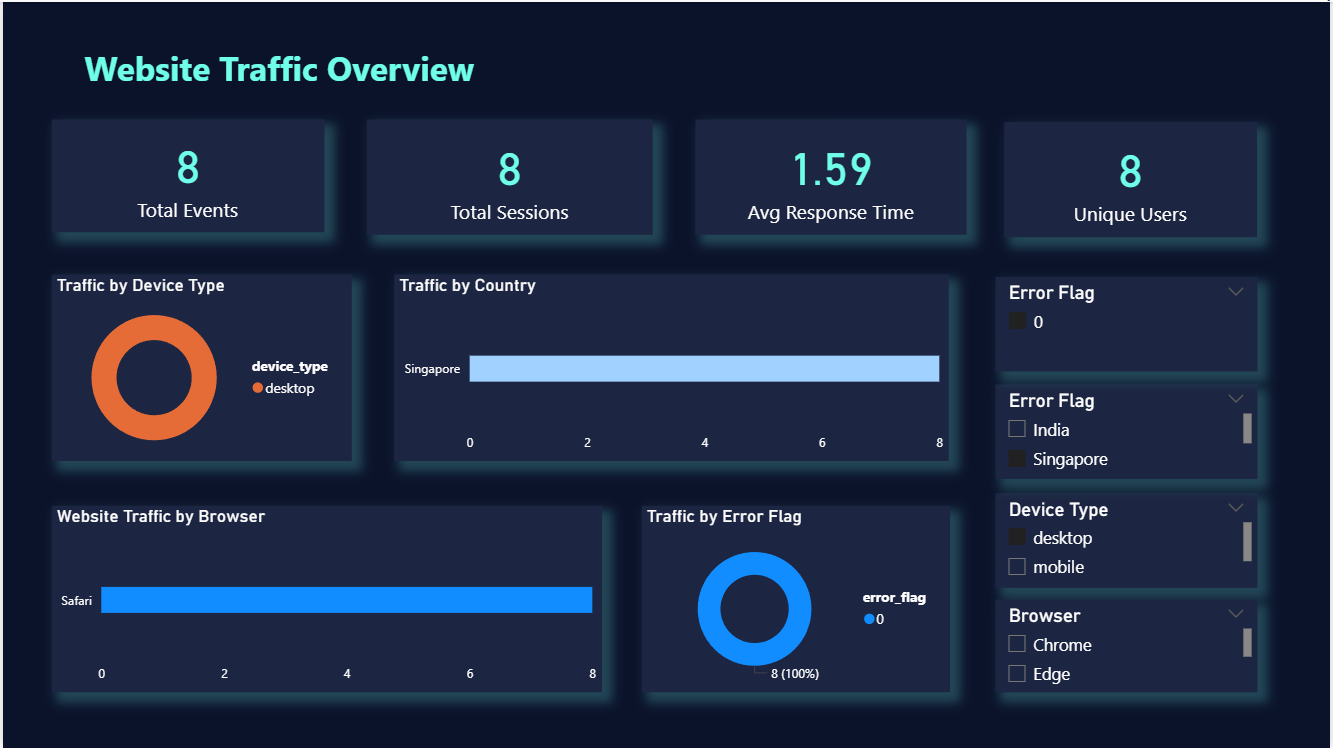

Layout of this report page (visuals, bound fields, positions):
{"tool":"powerbi","page":{"name":"Traffic  Overview","canvas":[1280,720],"ordinal":0},"visuals":[{"type":"card","fields":{"Values":["cleaned_logs.Total Events"]},"box":[47.1,113.2,263,108.6],"z":0},{"type":"card","fields":{"Values":["cleaned_logs.Unique Users"]},"box":[966.4,115.4,243.7,111],"z":1000},{"type":"card","fields":{"Values":["cleaned_logs.Total Sessions"]},"box":[351.1,113,276.3,111],"z":2000},{"type":"card","fields":{"Values":["cleaned_logs.Avg Response Time"]},"box":[668.4,113.2,261.8,111],"z":3000},{"type":"donutChart","title":"Traffic by Device Type","fields":{"Category":["cleaned_logs.device_type"],"Y":["CountNonNull(cleaned_logs.log_id)"]},"box":[47.6,263,290,180.3],"z":4000},{"type":"clusteredBarChart","title":"Website Traffic by Browser","fields":{"Category":["cleaned_logs.browser"],"Y":["CountNonNull(cleaned_logs.log_id)"]},"box":[47.6,485.7,530.9,180.3],"z":5000},{"type":"clusteredBarChart","title":"Traffic by Country","fields":{"Category":["cleaned_logs.country"],"Y":["CountNonNull(cleaned_logs.log_id)"]},"box":[378,263,535.3,180.3],"z":6000},{"type":"slicer","fields":{"Values":["cleaned_logs.device_type"]},"box":[958,474.2,252.5,90.9],"z":7000},{"type":"slicer","fields":{"Values":["cleaned_logs.browser"]},"box":[958,576.6,252.5,89.5],"z":8000},{"type":"slicer","fields":{"Values":["cleaned_logs.country"]},"box":[958,368.8,252.5,90.9],"z":9000},{"type":"donutChart","title":"Traffic by Error Flag","fields":{"Category":["cleaned_logs.error_flag"],"Y":["CountNonNull(cleaned_logs.log_id)"]},"box":[616.1,485.7,297.2,180.3],"z":10000},{"type":"slicer","fields":{"Values":["cleaned_logs.error_flag"]},"box":[958,265,252.5,90.9],"z":11000},{"type":"textbox","box":[73.6,37.5,447.3,64.9],"z":12000}]}

Visuals, with their boxes in screenshot pixels (x1, y1, x2, y2), scaled from the page's 1280x720 canvas onto the 1333x748 screenshot:
card - cleaned_logs.Total Events: bbox=(49, 118, 323, 230)
card - cleaned_logs.Unique Users: bbox=(1006, 120, 1260, 235)
card - cleaned_logs.Total Sessions: bbox=(366, 117, 653, 233)
card - cleaned_logs.Avg Response Time: bbox=(696, 118, 969, 233)
"Traffic by Device Type" donutChart: bbox=(50, 273, 352, 461)
"Website Traffic by Browser" clusteredBarChart: bbox=(50, 505, 602, 692)
"Traffic by Country" clusteredBarChart: bbox=(394, 273, 951, 461)
slicer - cleaned_logs.device_type: bbox=(998, 493, 1261, 587)
slicer - cleaned_logs.browser: bbox=(998, 599, 1261, 692)
slicer - cleaned_logs.country: bbox=(998, 383, 1261, 478)
"Traffic by Error Flag" donutChart: bbox=(642, 505, 951, 692)
slicer - cleaned_logs.error_flag: bbox=(998, 275, 1261, 370)
textbox: bbox=(77, 39, 542, 106)
